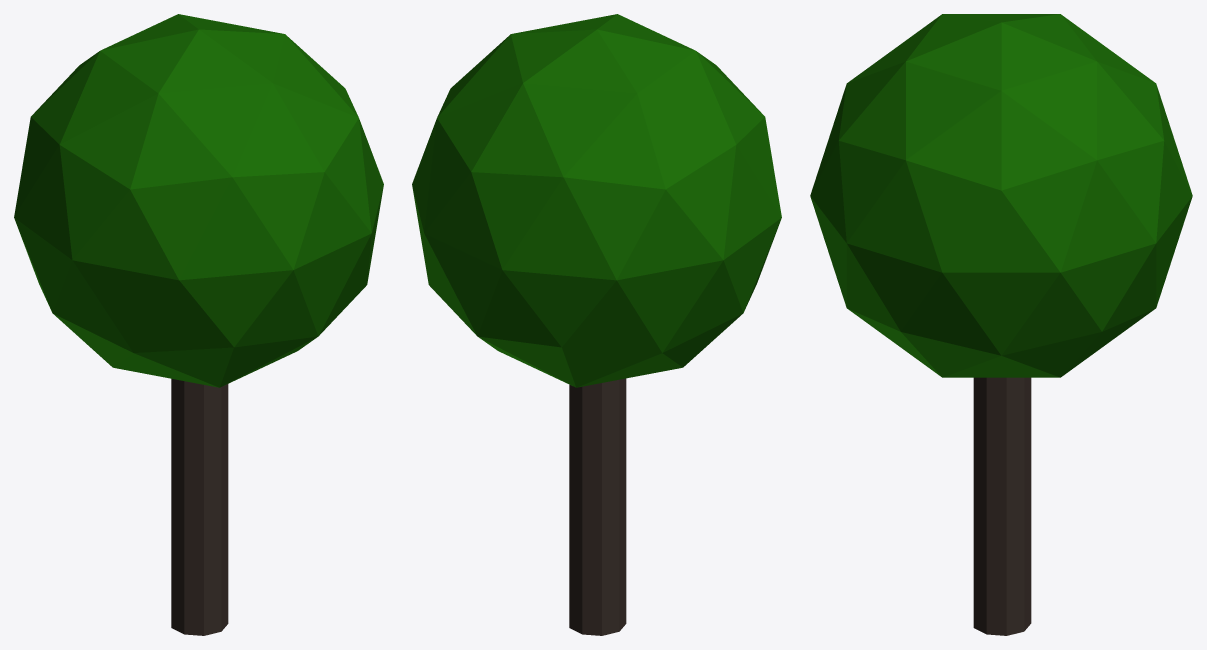
File: Simple_Tree_4.fbx
3 views of the same model, side by side, from view 1: azimuth 30°, elevation 25°; view 2: azimuth 150°, elevation 25°; view 3: azimuth 270°, elevation 25° (orthographic).
Visible parts, largest first — view 1: Simple_Tree_4; view 2: Simple_Tree_4; view 3: Simple_Tree_4.
Boxes of the visible parts, x1,y1,x2,y2 form: Simple_Tree_4: (14,14,383,635); Simple_Tree_4: (412,14,781,635); Simple_Tree_4: (810,14,1192,635).
Size of the model in its own units: 307 by 559 by 323.
